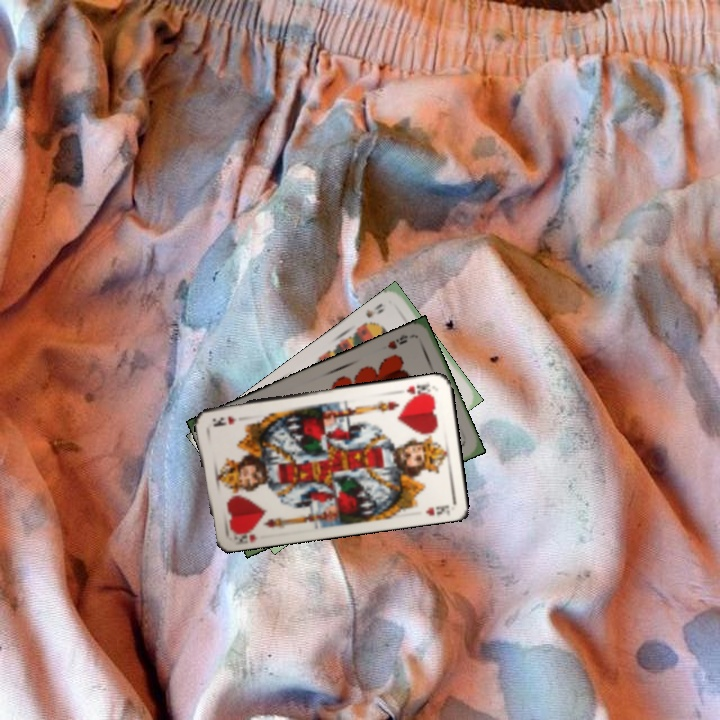H9: (383, 330, 416, 352)
HK: (227, 524, 261, 546), (403, 379, 433, 400)
S9: (358, 299, 386, 330)
